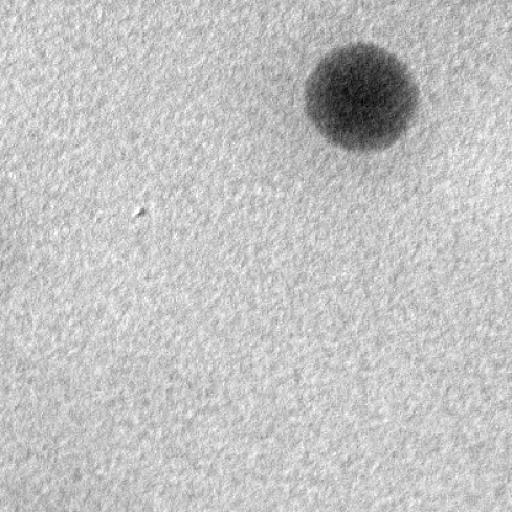Nanoparticles: (304, 41, 415, 159)
